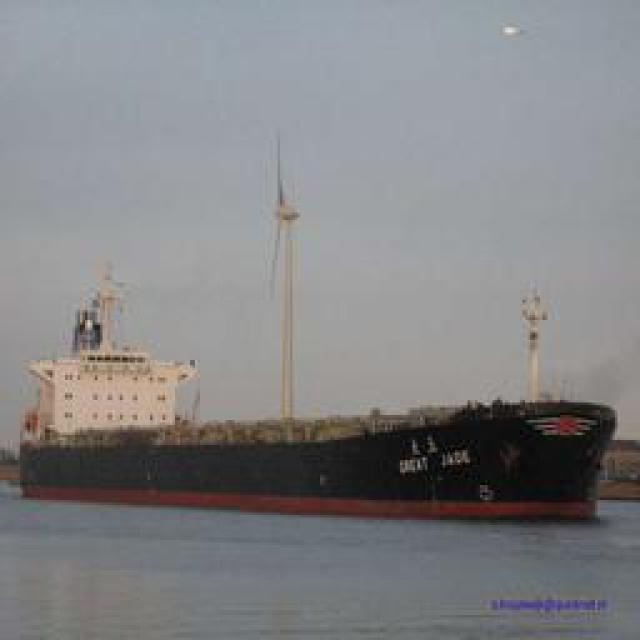Ship: (16, 264, 620, 523)
